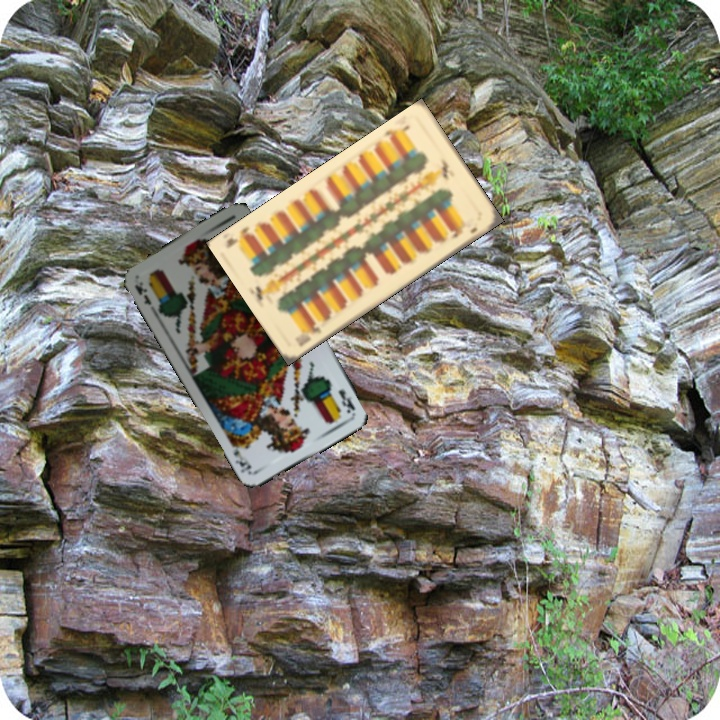E10: (294, 319, 324, 349), (379, 121, 412, 142)
EK: (334, 385, 358, 416), (130, 278, 154, 307)
